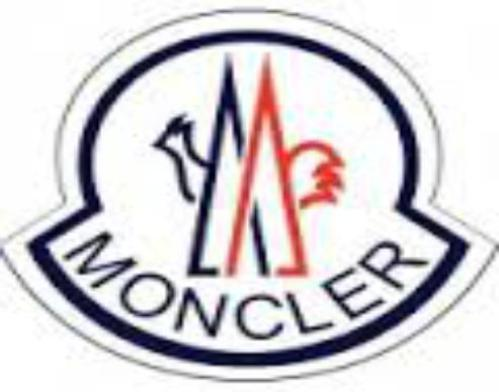MONCLER: (151, 49, 346, 285)
